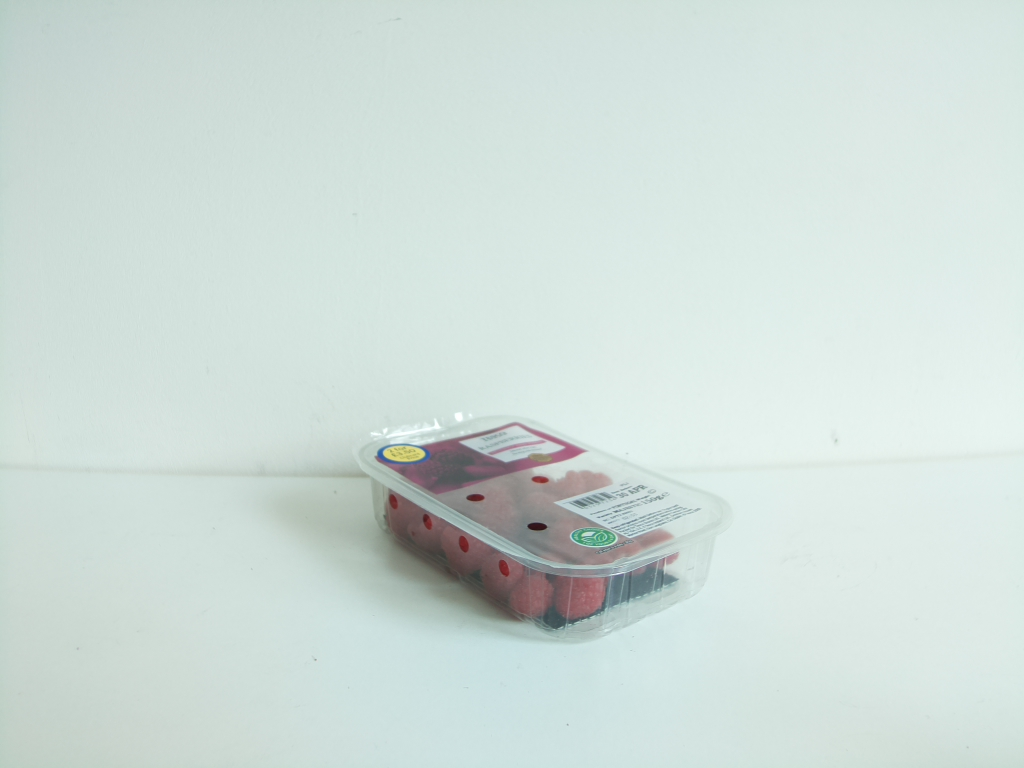soft-fruit: (366, 414, 729, 631)
